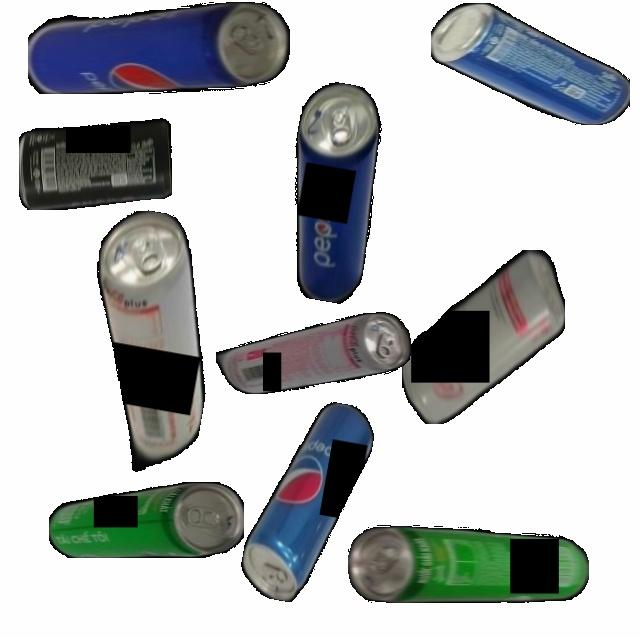debris: (63, 204, 235, 481), (237, 392, 378, 611), (401, 249, 565, 424), (270, 78, 394, 306), (430, 3, 630, 125), (27, 2, 290, 94), (348, 524, 589, 603), (215, 312, 411, 394), (48, 482, 244, 558), (18, 117, 172, 210)
